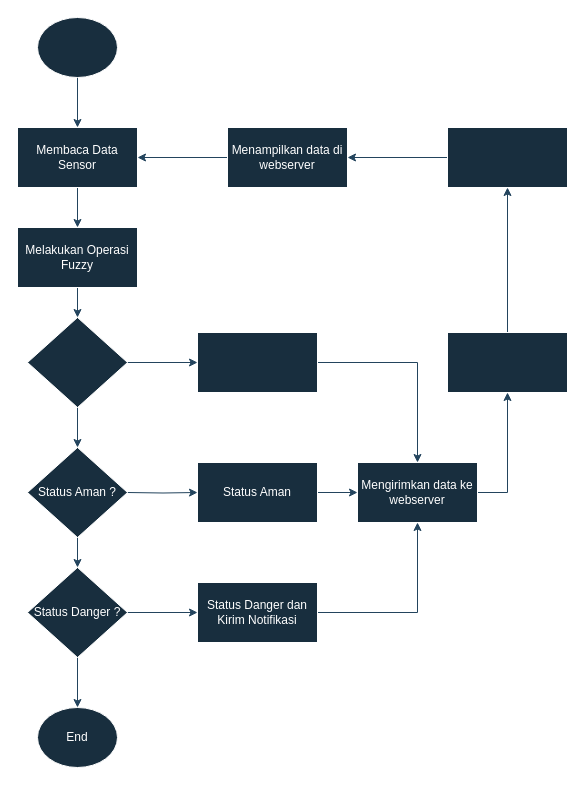
This 585x785 diagram has some shape labels left out. The centre of each missing label's shape, as x and y in pixels:
Cek Pairing Perangkat: the point at 77,362
Mengirimkan ke Cloud: the point at 507,362
Menyimpan Log di Cloud (Firebase): the point at 507,157
Start: the point at 77,47
Status Null: the point at 257,362
